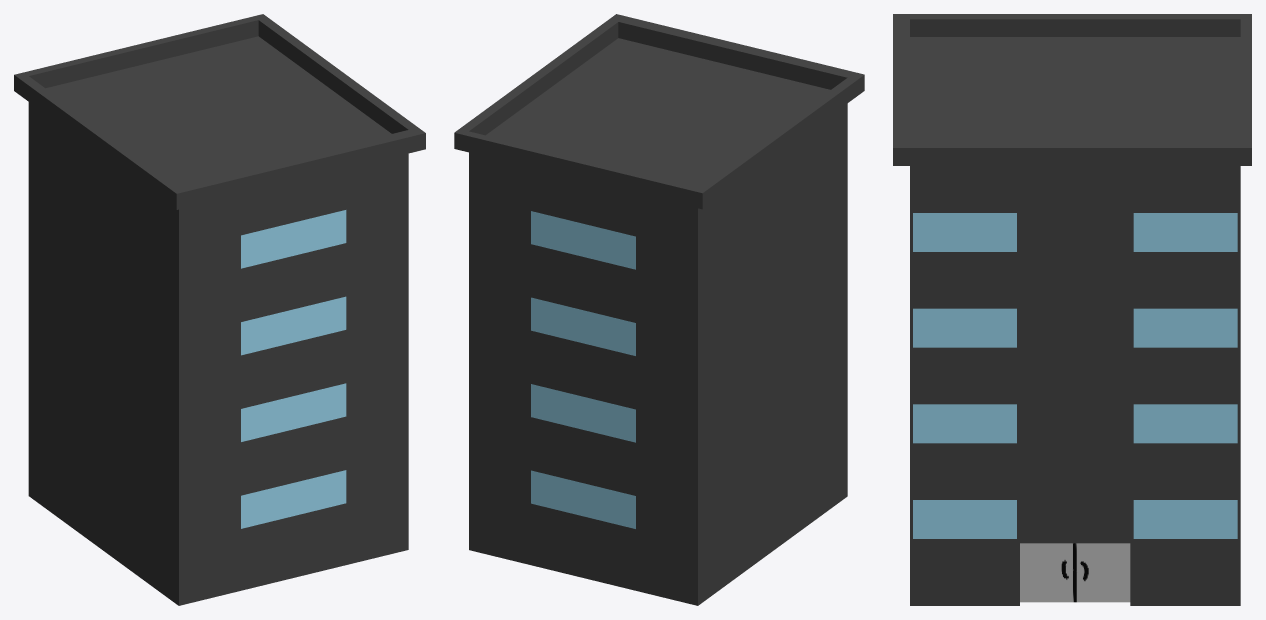
The model's file is building_1.fbx.
3 views of the same model, side by side, from view 1: azimuth 30°, elevation 25°; view 2: azimuth 150°, elevation 25°; view 3: azimuth 270°, elevation 25° (orthographic). The views are drawn at different scales.
Parts seen in each view (by area): view 1: Building; view 2: Building; view 3: Building.
Part boxes in pixels (bbox=[...]): Building: bbox=[14, 14, 425, 605]; Building: bbox=[454, 14, 864, 605]; Building: bbox=[893, 14, 1251, 605].
Bounding box in the file's own units: 959 × 1545 × 1085.
Materials: 3 (1 with a texture image).
